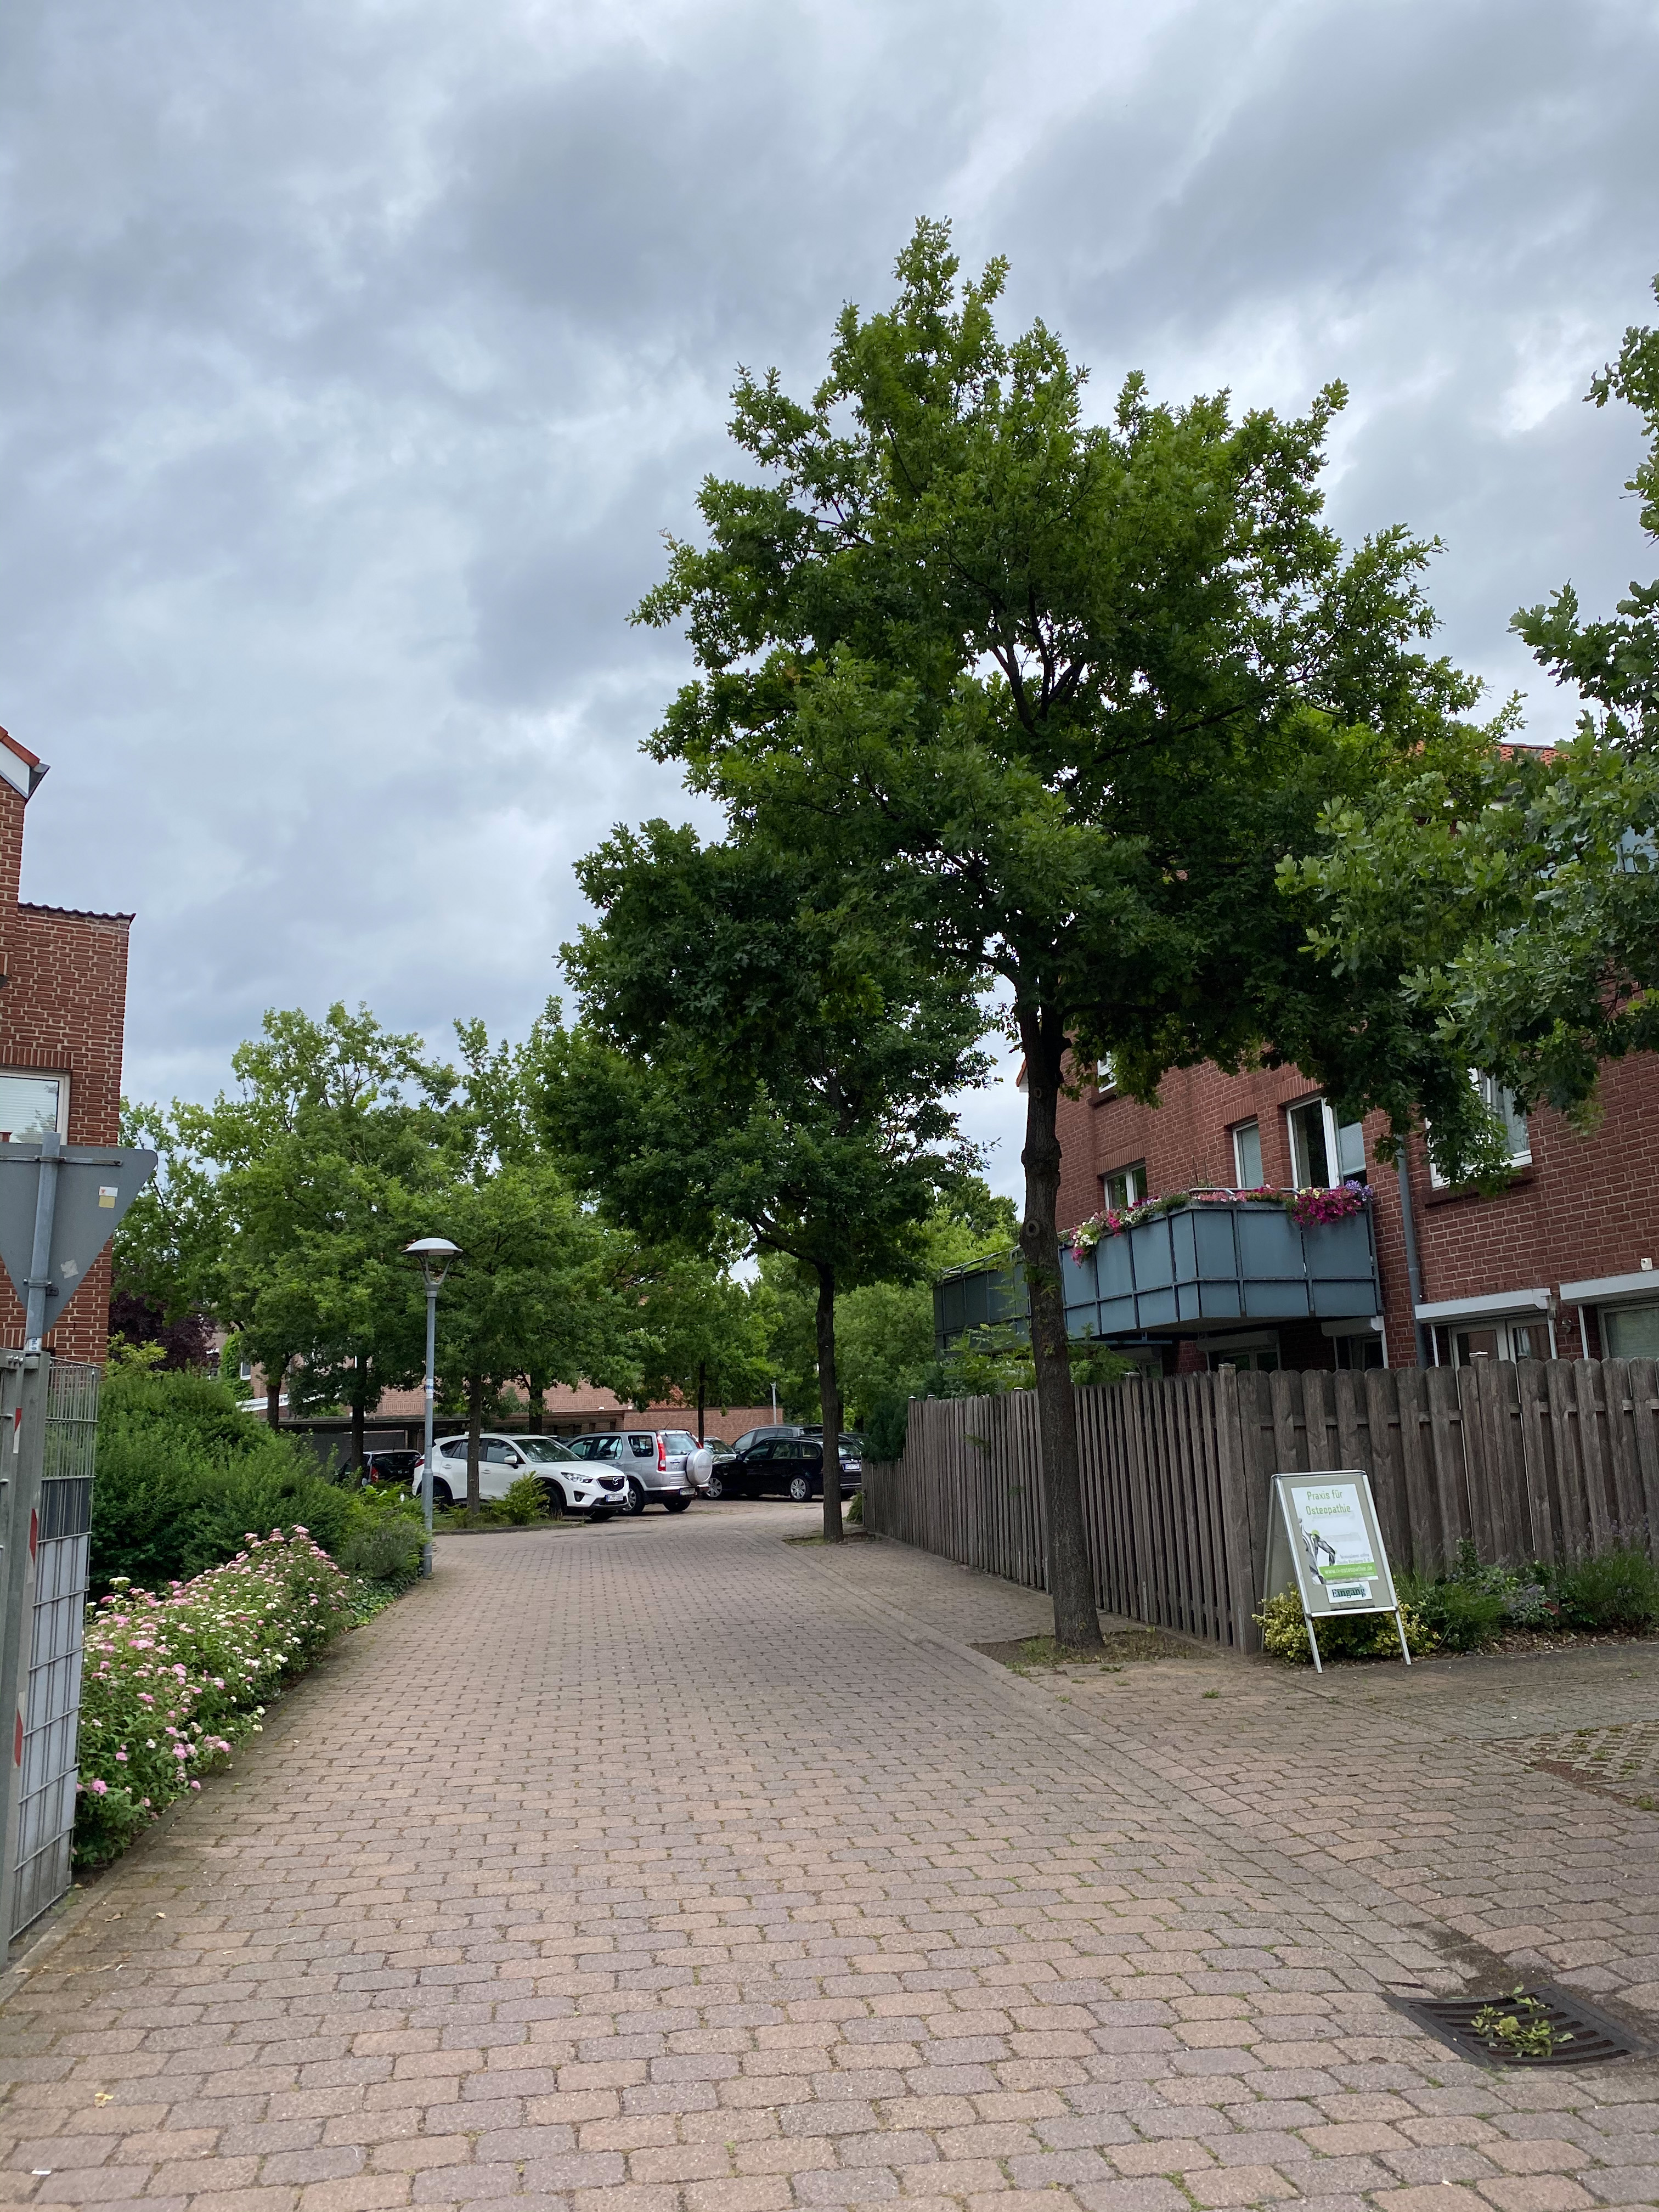tree: (622, 214, 1605, 1667), (526, 812, 999, 1548), (1276, 273, 1659, 1137), (166, 1000, 521, 1491), (291, 1153, 666, 1517), (416, 995, 666, 1435), (110, 1096, 333, 1437), (619, 1270, 777, 1447), (631, 1273, 784, 1449), (106, 1263, 221, 1376)
